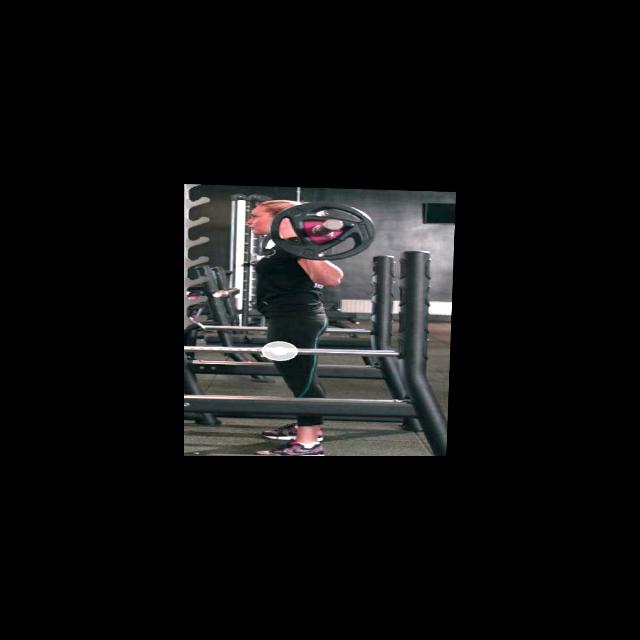barbell: (268, 197, 378, 263)
